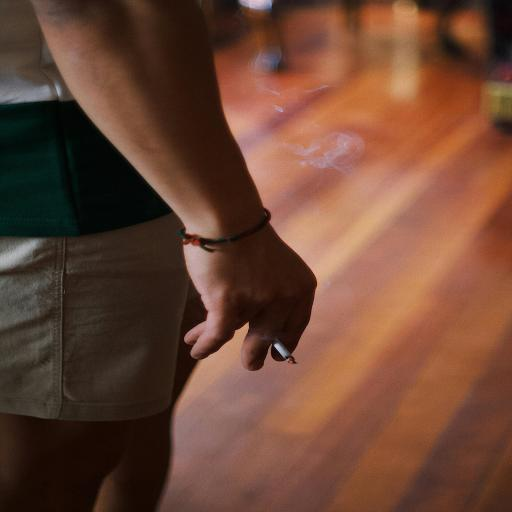terdeteksi pegang rokok: (154, 192, 331, 379)
